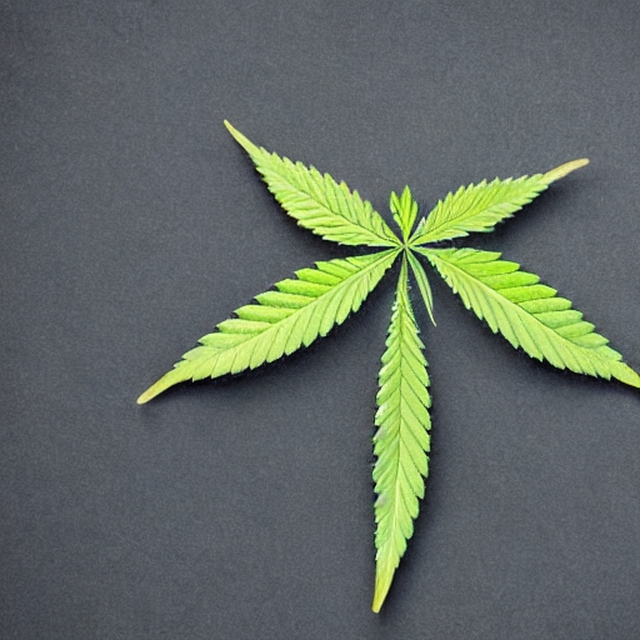Marijuana Leaf: (135, 117, 640, 613)
